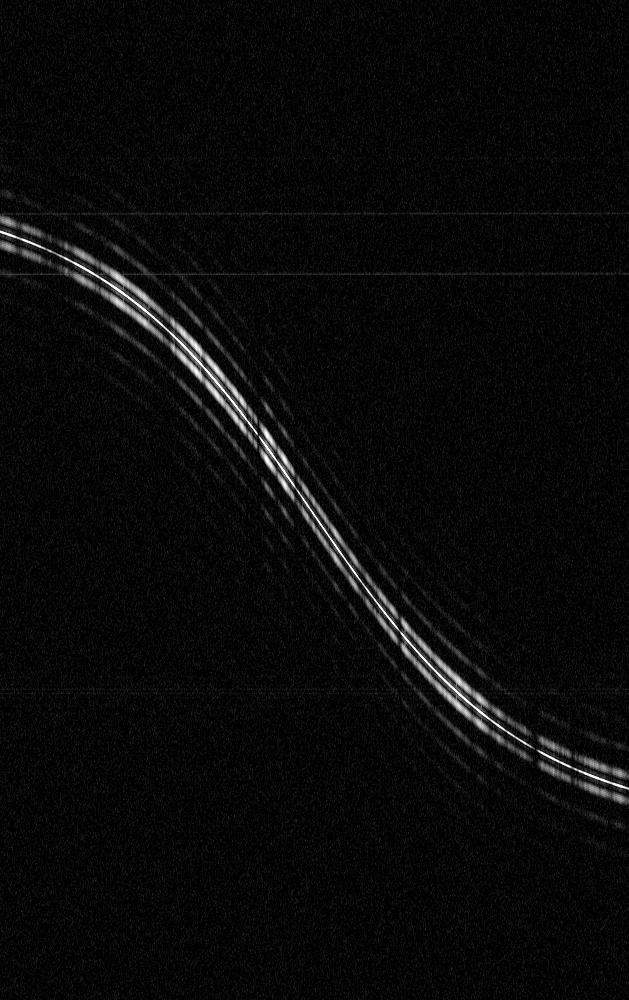signal: (0, 0, 628, 999)
